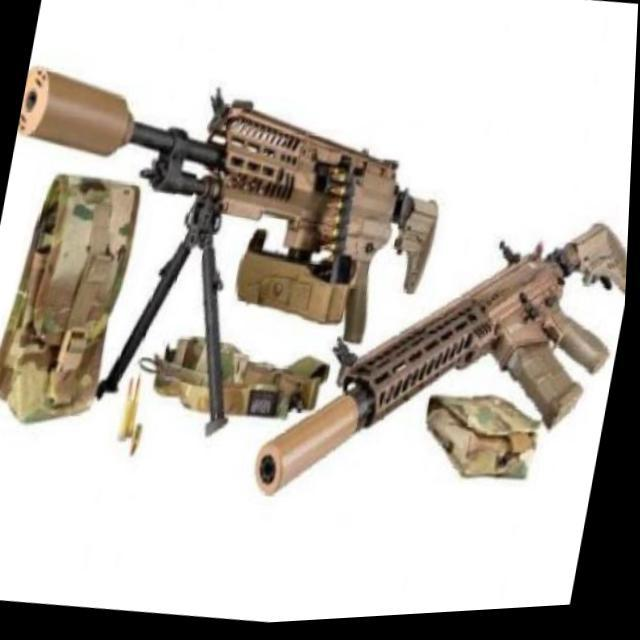weapon: (0, 40, 463, 473), (250, 183, 632, 544)
